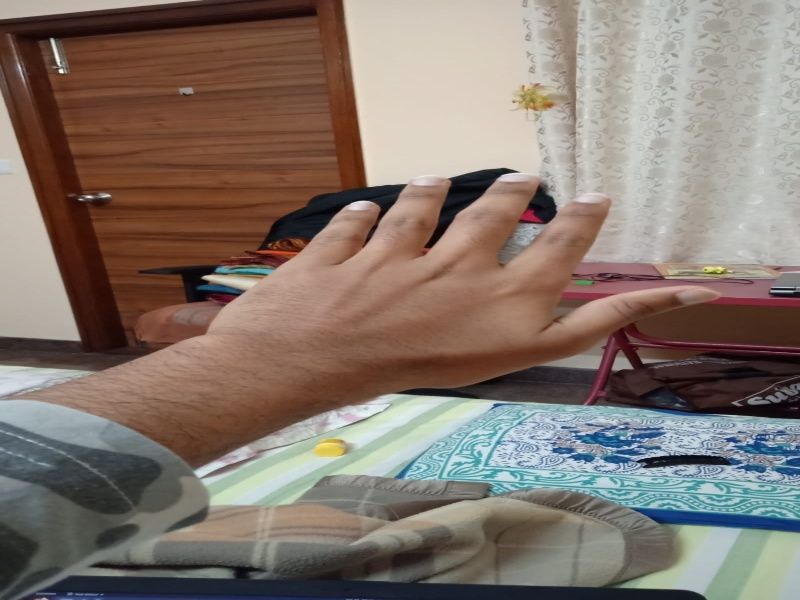Hand: (193, 164, 733, 404)
